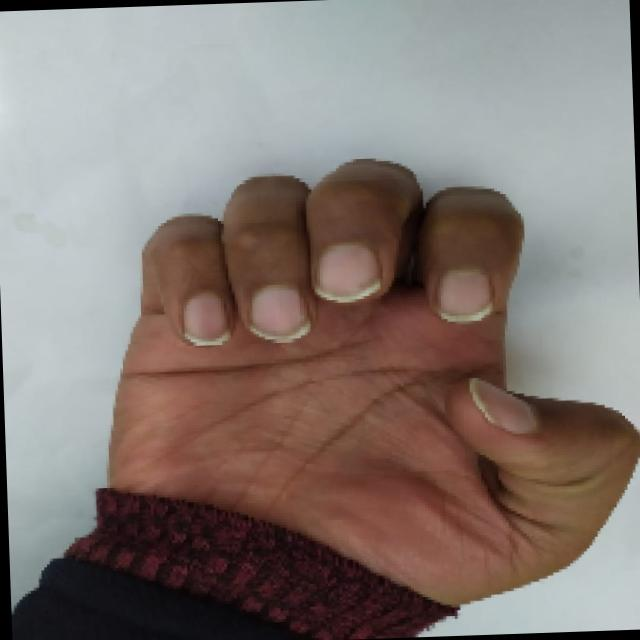Nail: (467, 377, 535, 433), (315, 244, 379, 302), (248, 283, 309, 342), (435, 269, 492, 322), (181, 291, 228, 344)
